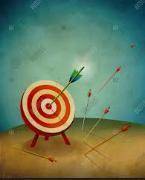target_red: (19, 79, 75, 136)
